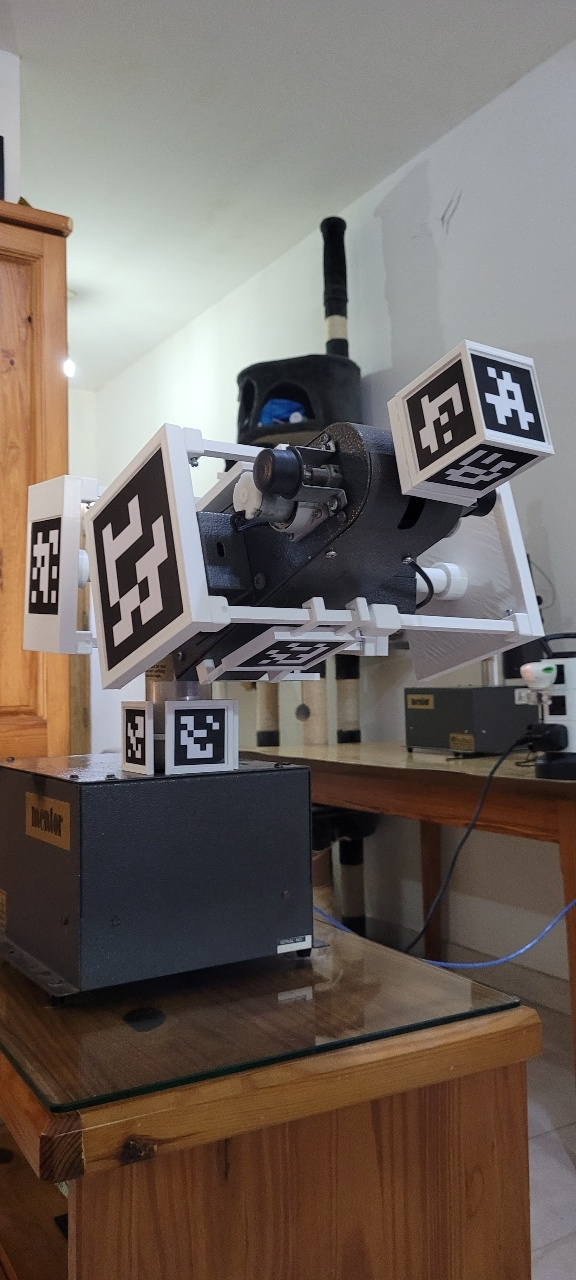Robot: (62, 226, 576, 1280)
